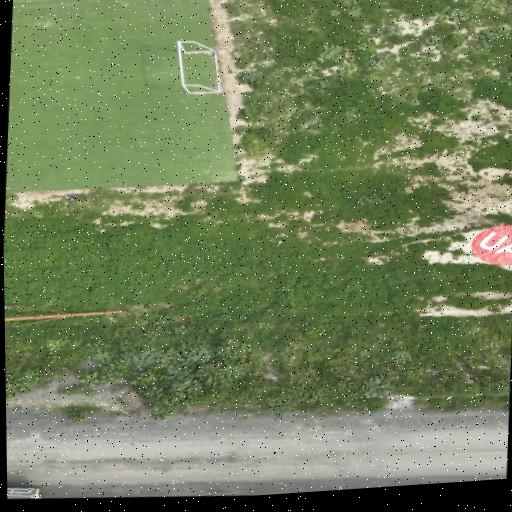truck: (7, 486, 40, 498)
uai: (472, 224, 512, 265)
